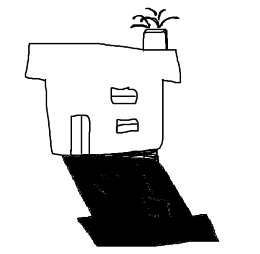closed_window: (106, 84, 144, 111), (112, 117, 144, 138)
door: (67, 112, 98, 159)
shadow: (57, 147, 224, 251)
single_line_roof: (16, 39, 185, 86)
smoking_chimney: (131, 6, 186, 57)
wall: (38, 72, 173, 161)
